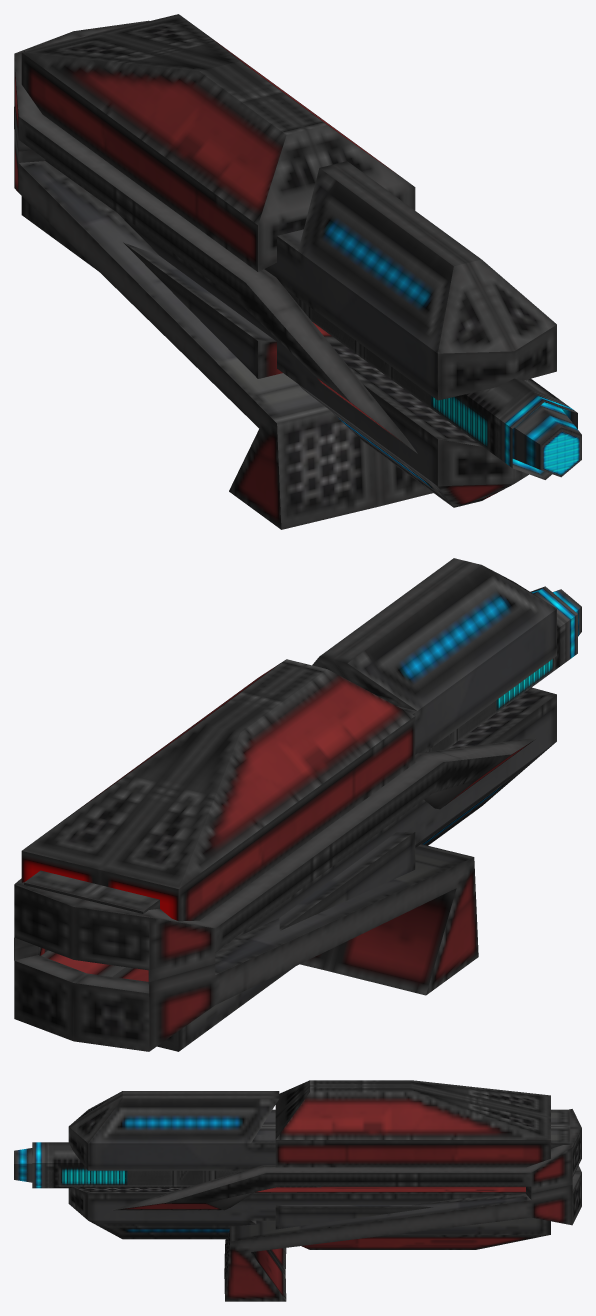
Rendered from BFP_PlasmaCannon01.FBX.
3 renders of one model, top to bottom at view 1: azimuth 30°, elevation 25°; view 2: azimuth 150°, elevation 25°; view 3: azimuth 270°, elevation 25°, orthographic. The views are drawn at different scales.
Visible parts, largest first — view 1: BFP_PlasmaCannon01; view 2: BFP_PlasmaCannon01; view 3: BFP_PlasmaCannon01.
Part boxes in pixels (x1,y1,x2,y2): BFP_PlasmaCannon01: [14, 14, 581, 529]; BFP_PlasmaCannon01: [14, 558, 581, 1051]; BFP_PlasmaCannon01: [14, 1080, 581, 1301].
Size of the model in its own units: 58.78 by 91.74 by 252.
1 material, 1 textured.
